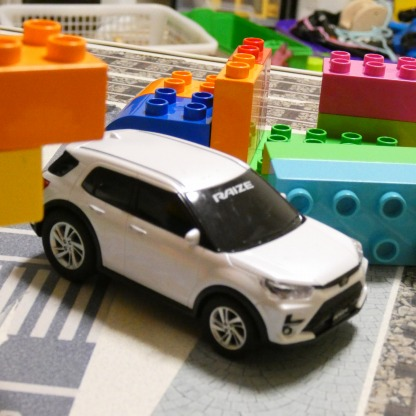car: (23, 123, 369, 362)
